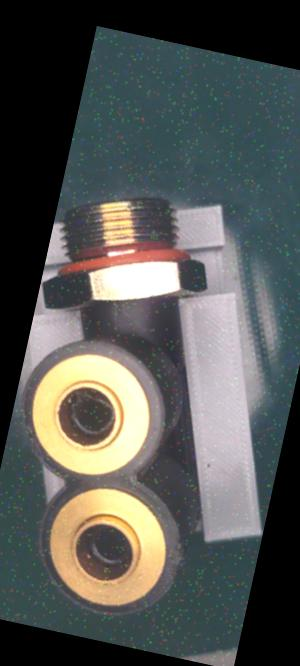bump: (167, 543, 191, 586)
off-centered: (58, 387, 120, 445)
white mark: (118, 306, 145, 331), (109, 301, 122, 323)
